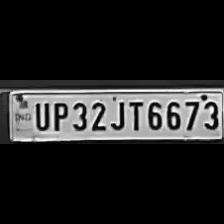2: (89, 98, 107, 132)
3: (201, 97, 219, 130), (70, 98, 86, 132)
6: (144, 98, 162, 130), (164, 98, 181, 130)
7: (182, 97, 198, 131)
J: (107, 97, 125, 130)
P: (50, 99, 68, 131)
T: (126, 98, 144, 132)
U: (31, 98, 49, 130)
